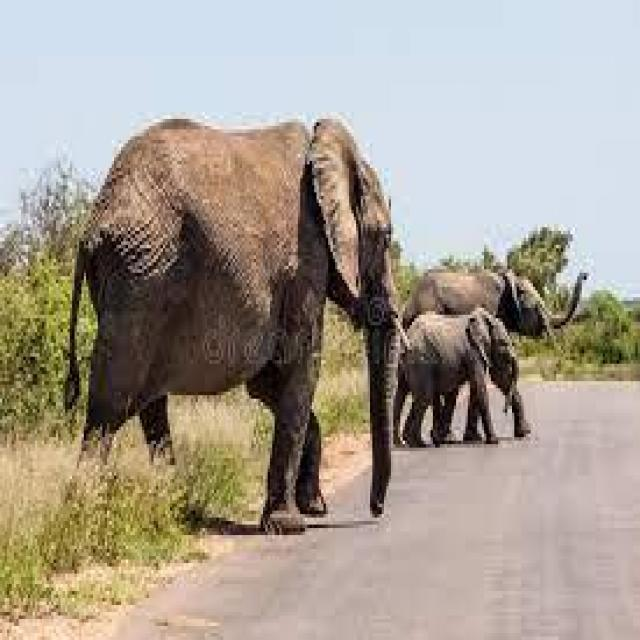Elephant: (54, 95, 402, 539), (384, 290, 522, 452), (384, 245, 585, 352)
